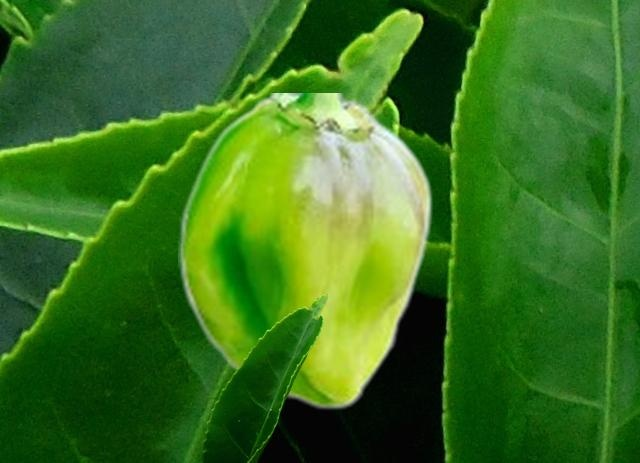green_chili: (178, 93, 433, 410)
